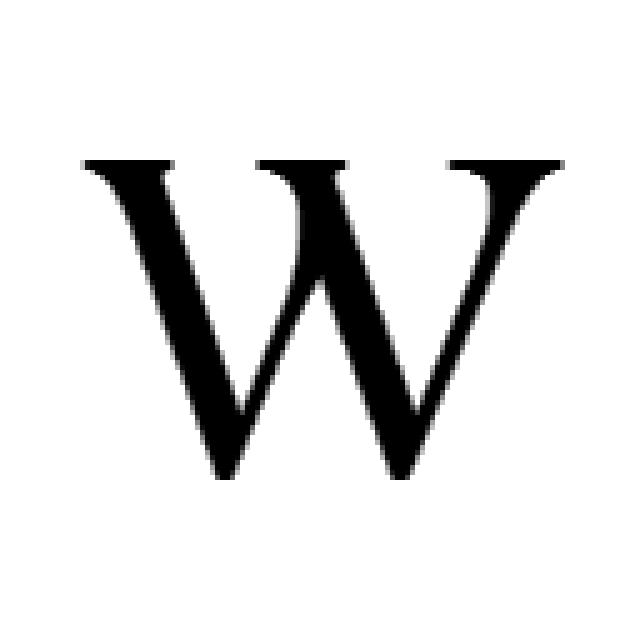W: (70, 130, 570, 490)
